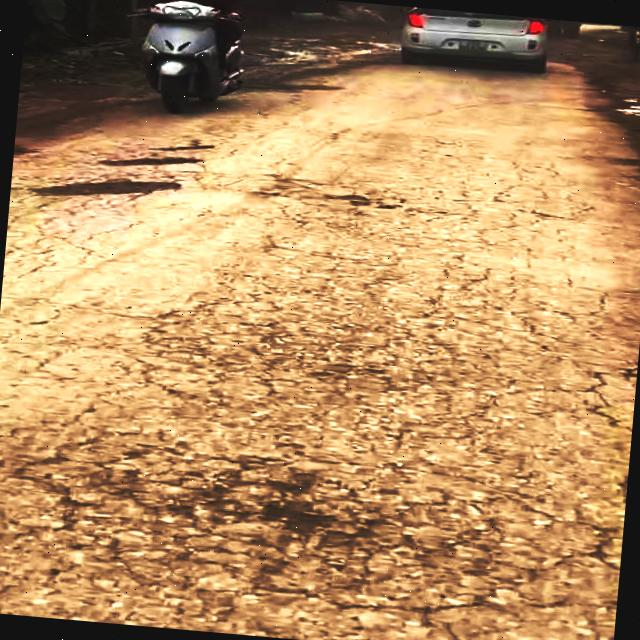pothole: (24, 168, 189, 210)
